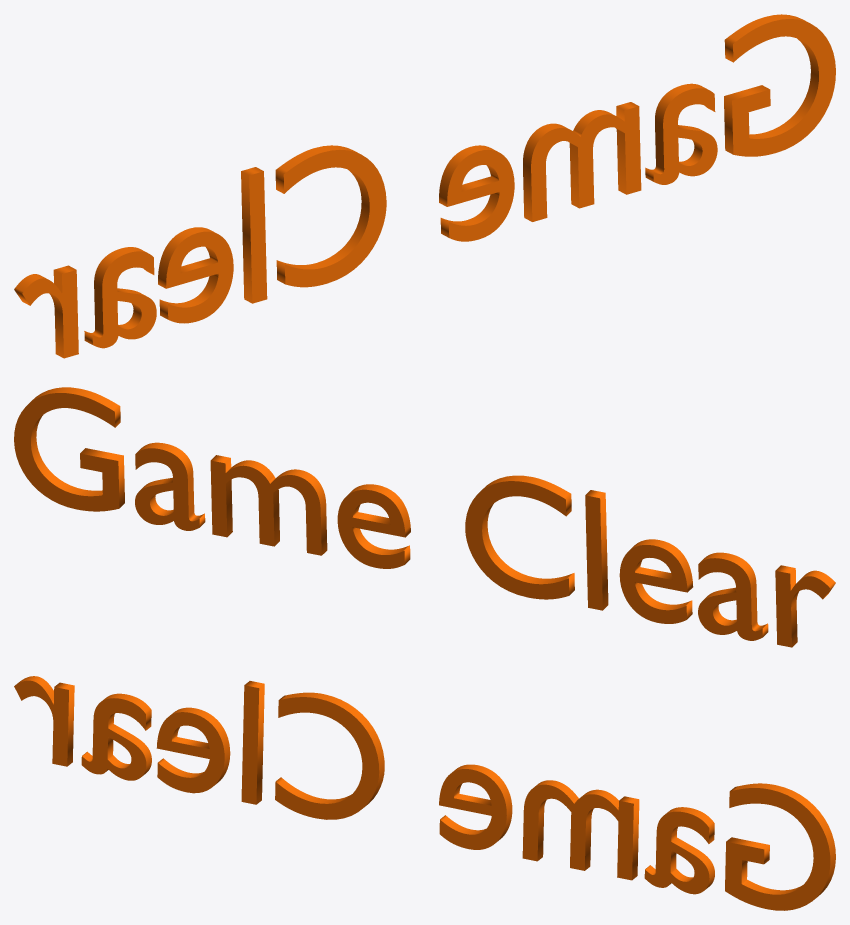
The model's file is clearFont.obj.
The picture shows the model from 3 angles, top to bottom: view 1: azimuth 30°, elevation 25°; view 2: azimuth 150°, elevation 25°; view 3: azimuth 330°, elevation 25°; orthographic projection. The views are drawn at different scales.
Visible parts, largest first — view 1: テキスト.004; view 2: テキスト.004; view 3: テキスト.004.
Part boxes in pixels (bbox=[...]): テキスト.004: bbox=[14, 14, 835, 358]; テキスト.004: bbox=[14, 387, 835, 647]; テキスト.004: bbox=[14, 676, 835, 910].
Size of the model in its own units: 19.06 by 2.79 by 1.9.
